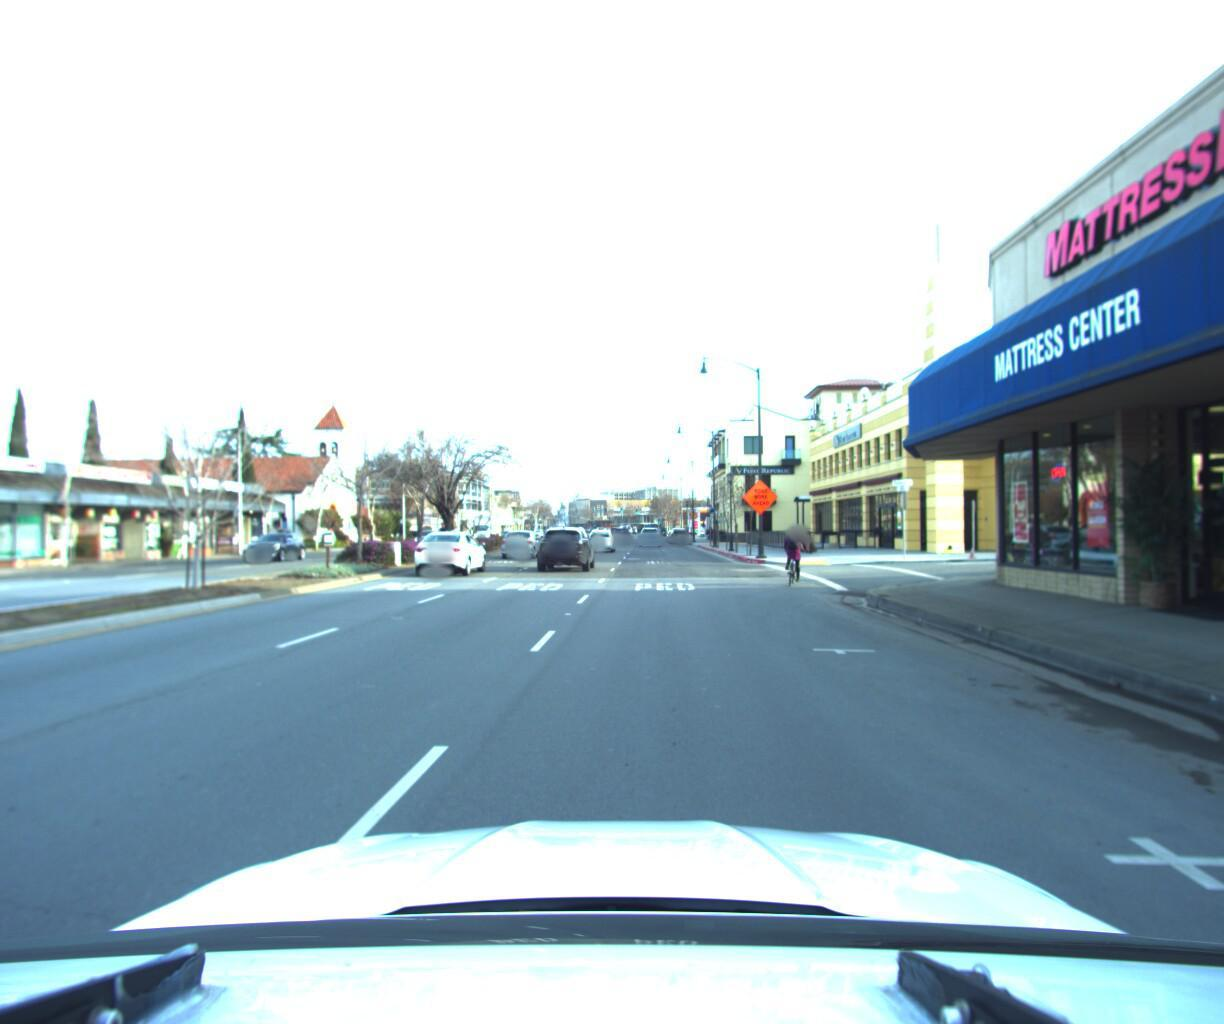bicycle: (766, 510, 811, 579)
car: (410, 525, 489, 576), (537, 517, 596, 570), (237, 530, 312, 565), (498, 529, 544, 555), (583, 519, 616, 549), (639, 522, 663, 543), (614, 521, 633, 540), (669, 523, 688, 539)
